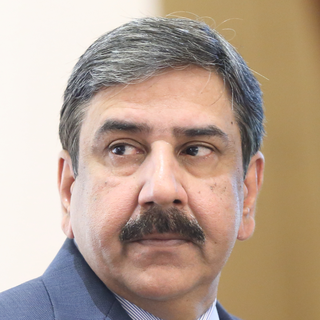eye: (175, 139, 219, 161), (106, 140, 147, 160)
